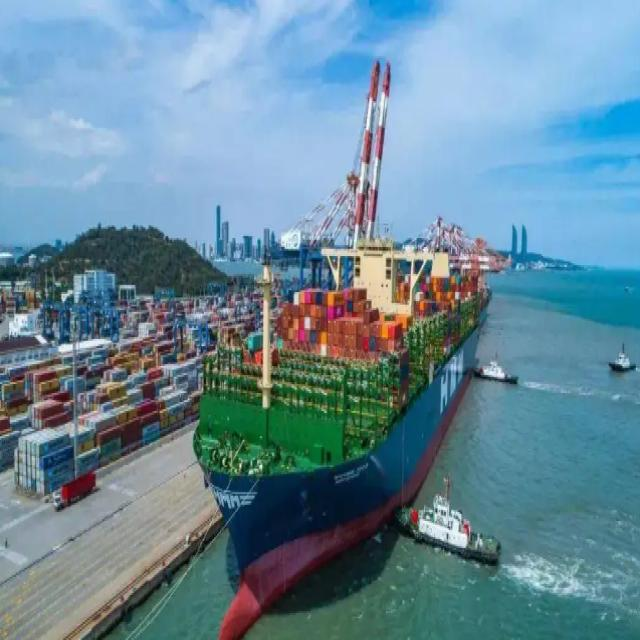cargoship: (197, 192, 499, 596)
houseboat: (394, 479, 501, 569), (477, 345, 516, 395), (607, 348, 636, 372)
